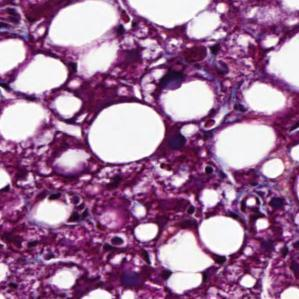inflammation: (64, 192, 131, 251), (170, 37, 238, 79), (234, 186, 290, 235)
